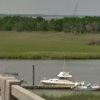Boat: (24, 70, 98, 97)
